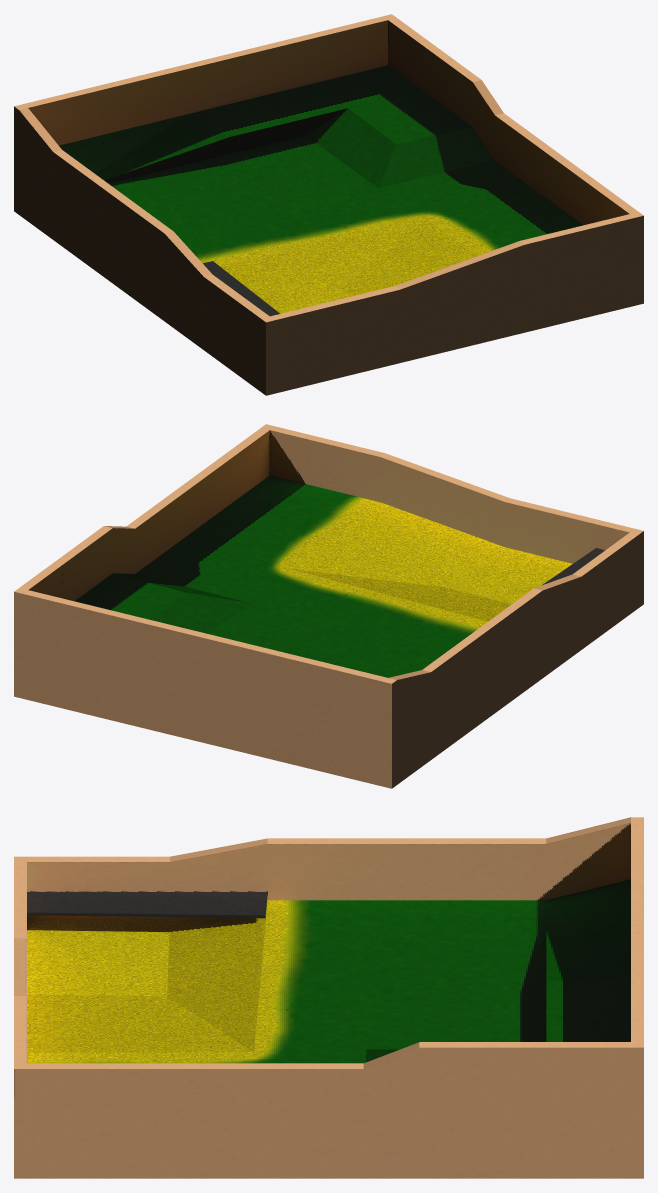
Rendered from new godse map.glb.
3 views of the same model, one above another, from view 1: azimuth 30°, elevation 25°; view 2: azimuth 150°, elevation 25°; view 3: azimuth 270°, elevation 25° (orthographic). The views are drawn at different scales.
Parts seen in each view (by area): view 1: Cube; view 2: Cube; view 3: Cube.
Boxes of the visible parts, x1,y1,x2,y2 form: Cube: (14, 14, 643, 395); Cube: (14, 424, 643, 788); Cube: (14, 817, 643, 1178).
Bounding box in the file's own units: 1050 × 279 × 1213.
2 materials, 2 textured.
